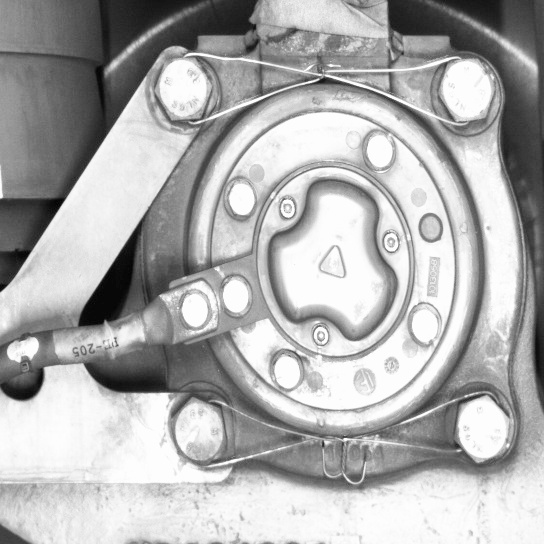IronWire: (143, 41, 509, 137), (165, 384, 520, 474)
Screw: (142, 43, 223, 135), (427, 49, 507, 137), (442, 383, 520, 470), (163, 384, 234, 474)
